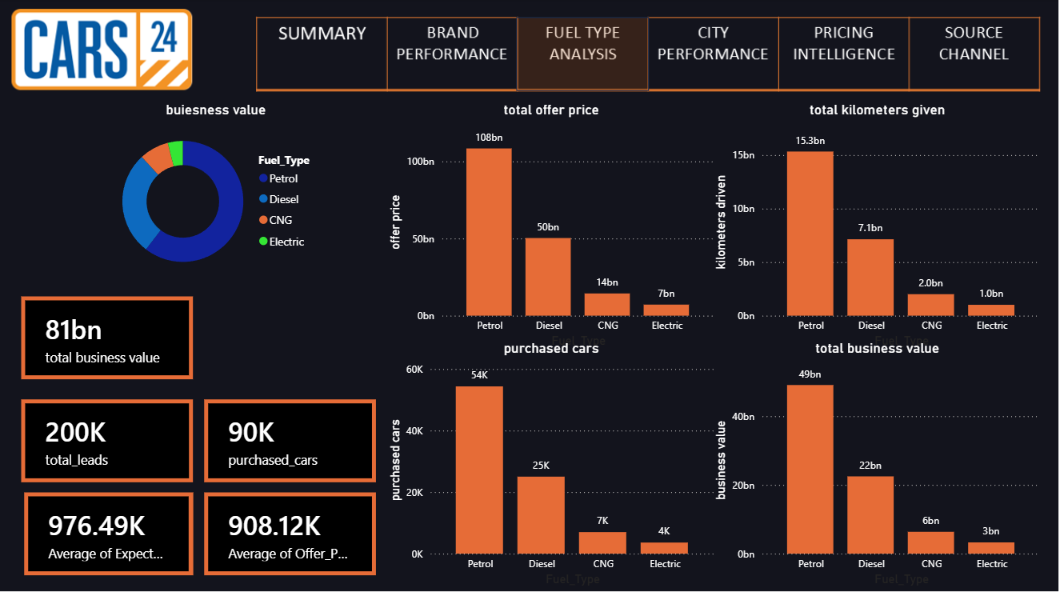

The page's visual inventory and layout, read from the dashboard file:
{"tool":"powerbi","page":{"name":"fuel type analysis","canvas":[1280,720],"ordinal":2},"visuals":[{"type":"clusteredColumnChart","title":"total kilometers given","fields":{"Category":["Cars24_Realistic_Dataset_FULL_c.Fuel_Type"],"Y":["Sum(Cars24_Realistic_Dataset_FULL_c.Kilometers_Driven)"]},"box":[862.5,123.8,393.8,297.5],"z":0},{"type":"clusteredColumnChart","title":"total offer price","fields":{"Category":["Cars24_Realistic_Dataset_FULL_c.Fuel_Type"],"Y":["Sum(Cars24_Realistic_Dataset_FULL_c.Offer_Price)"]},"box":[468.8,123.8,393.8,297.5],"z":1000},{"type":"clusteredColumnChart","title":"purchased cars","fields":{"Category":["Cars24_Realistic_Dataset_FULL_c.Fuel_Type"],"Y":["Cars24_Realistic_Dataset_FULL_c.purchased_cars"]},"box":[468.8,411.2,393.8,297.5],"z":2000},{"type":"clusteredColumnChart","title":"total business value","fields":{"Category":["Cars24_Realistic_Dataset_FULL_c.Fuel_Type"],"Y":["Cars24_Realistic_Dataset_FULL_c.total_buisness_value"]},"box":[862.5,411.2,393.8,297.5],"z":3000},{"type":"donutChart","title":"buiesness value","fields":{"Category":["Cars24_Realistic_Dataset_FULL_c.Fuel_Type"],"Y":["Cars24_Realistic_Dataset_FULL_c.total_buisness_value"]},"box":[130,123.8,262.5,217.5],"z":4000},{"type":"cardVisual","fields":{"Data":["Cars24_Realistic_Dataset_FULL_c.total_leads"]},"box":[26.2,483.8,207.5,100],"z":5000},{"type":"cardVisual","fields":{"Data":["Avg(Cars24_Realistic_Dataset_FULL_c.Expected_Price)"]},"box":[30,596.2,203.8,100],"z":6000},{"type":"cardVisual","fields":{"Data":["Avg(Cars24_Realistic_Dataset_FULL_c.Offer_Price)"]},"box":[247.5,596.2,207.5,100],"z":7000},{"type":"cardVisual","fields":{"Data":["Cars24_Realistic_Dataset_FULL_c.total_buisness_value"]},"box":[26.2,360,207.5,100],"z":8000},{"type":"cardVisual","fields":{"Data":["Cars24_Realistic_Dataset_FULL_c.purchased_cars"]},"box":[247.5,483.8,207.5,100],"z":9000},{"type":"actionButton","box":[470,22.7,154.5,92.7],"z":9001},{"type":"actionButton","box":[782.7,22.7,158.2,92.7],"z":9002},{"type":"actionButton","box":[940.9,22.7,158.2,92.7],"z":9003},{"type":"actionButton","box":[1099.1,22.7,158.2,92.7],"z":9004},{"type":"actionButton","box":[311.8,23.6,154.5,92.7],"z":9005}]}

Visuals, with their boxes in screenshot pixels (x1, y1, x2, y2), scaled from the page's 1280x720 canvas onto the 1059x592 screenshot:
"total kilometers given" clusteredColumnChart: left=714, top=102, right=1039, bottom=346
"total offer price" clusteredColumnChart: left=388, top=102, right=714, bottom=346
"purchased cars" clusteredColumnChart: left=388, top=338, right=714, bottom=583
"total business value" clusteredColumnChart: left=714, top=338, right=1039, bottom=583
"buiesness value" donutChart: left=108, top=102, right=325, bottom=281
cardVisual - Cars24_Realistic_Dataset_FULL_c.total_leads: left=22, top=398, right=193, bottom=480
cardVisual - Avg(Cars24_Realistic_Dataset_FULL_c.Expected_Price): left=25, top=490, right=193, bottom=572
cardVisual - Avg(Cars24_Realistic_Dataset_FULL_c.Offer_Price): left=205, top=490, right=376, bottom=572
cardVisual - Cars24_Realistic_Dataset_FULL_c.total_buisness_value: left=22, top=296, right=193, bottom=378
cardVisual - Cars24_Realistic_Dataset_FULL_c.purchased_cars: left=205, top=398, right=376, bottom=480
actionButton: left=389, top=19, right=517, bottom=95
actionButton: left=648, top=19, right=778, bottom=95
actionButton: left=778, top=19, right=909, bottom=95
actionButton: left=909, top=19, right=1040, bottom=95
actionButton: left=258, top=19, right=386, bottom=96
